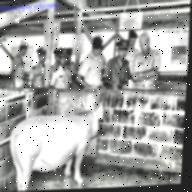boar: (6, 99, 106, 191)
